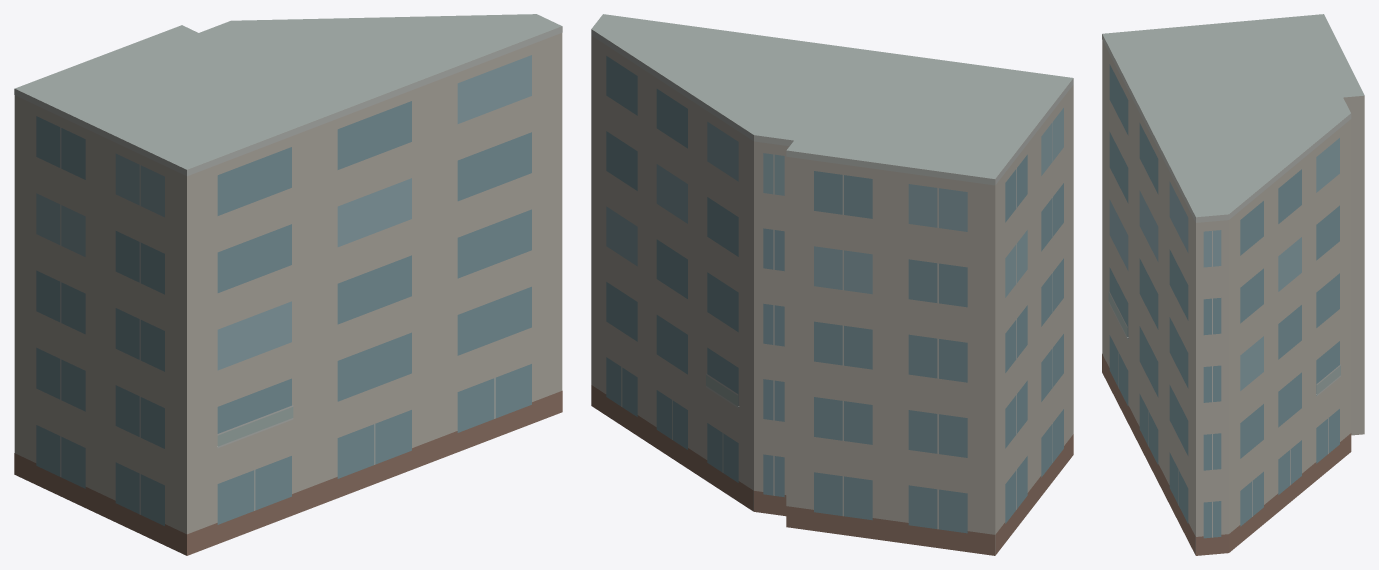
The model's file is survey-upis-32621014.glb.
3 views of the same model, side by side, from view 1: azimuth 30°, elevation 25°; view 2: azimuth 150°, elevation 25°; view 3: azimuth 270°, elevation 25° (orthographic). The views are drawn at different scales.
Visible parts, largest first — view 1: survey-upis-32621014.tmp; view 2: survey-upis-32621014.tmp; view 3: survey-upis-32621014.tmp.
Part boxes in pixels (<box>): survey-upis-32621014.tmp: <box>14,14,562,555</box>; survey-upis-32621014.tmp: <box>591,14,1073,555</box>; survey-upis-32621014.tmp: <box>1102,14,1364,555</box>.
Bounding box in the file's own units: 18.8 × 14.6 × 10.27.
